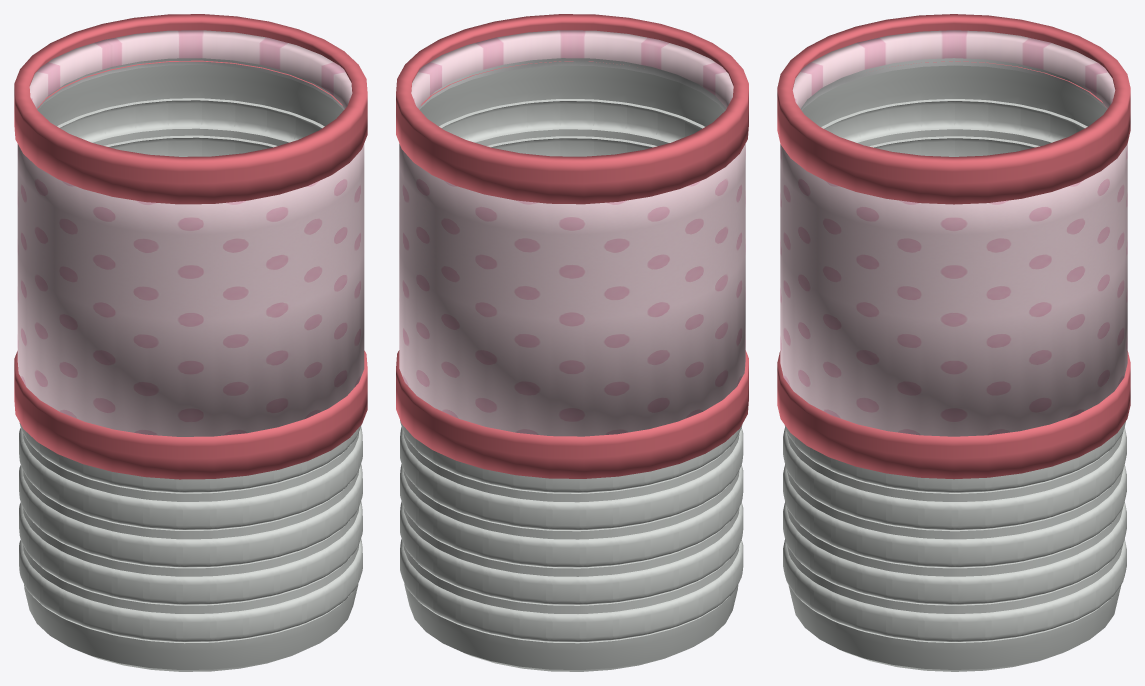
The model's file is bottle-4.glb.
The picture shows the model from 3 angles, left to right: view 1: azimuth 30°, elevation 25°; view 2: azimuth 150°, elevation 25°; view 3: azimuth 270°, elevation 25°; orthographic projection.
Visible parts, largest first — view 1: Cylinder.004; view 2: Cylinder.004; view 3: Cylinder.004.
Part boxes in pixels (x1,y1,x2,y2): Cylinder.004: (14,14,367,671); Cylinder.004: (396,14,748,671); Cylinder.004: (777,14,1130,671).
Bounding box in the file's own units: 0.3651 × 0.619 × 0.3651.
4 materials, 2 textured.
